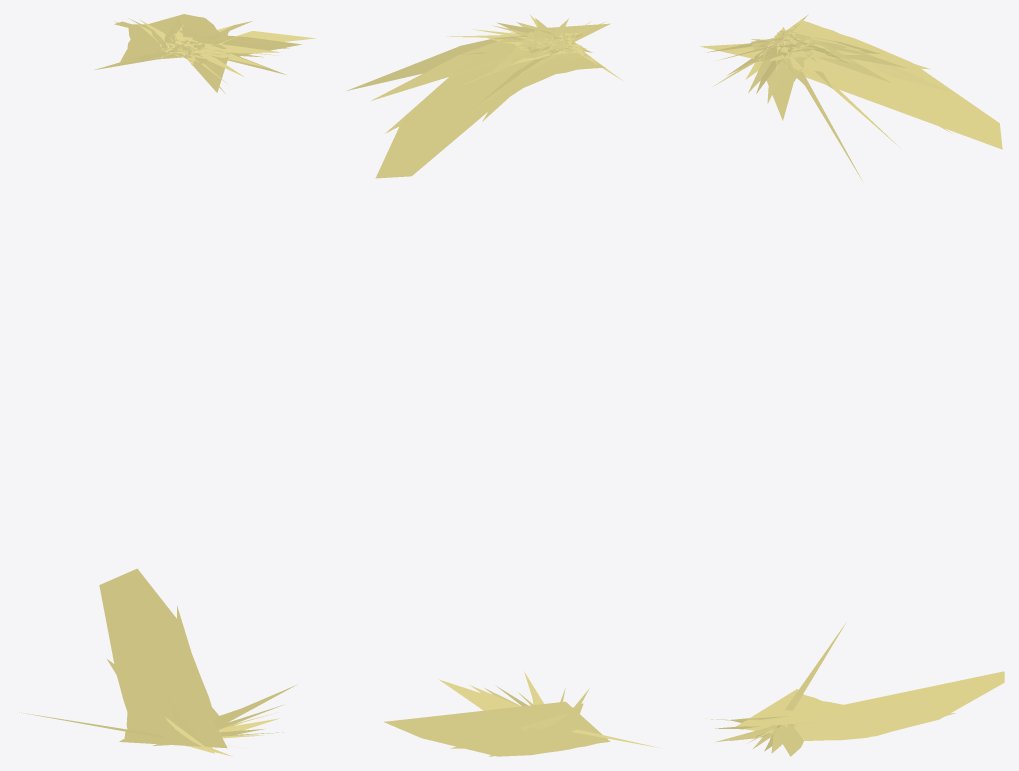
The model's file is grating.glb.
3 renders of one model, left to right at view 1: azimuth 30°, elevation 25°; view 2: azimuth 150°, elevation 25°; view 3: azimuth 270°, elevation 25°, orthographic.
Parts seen in each view (by area): view 1: grating; view 2: grating; view 3: grating.
Part boxes in pixels (x1,y1,x2,y2): grating: [19, 14, 315, 756]; grating: [346, 14, 660, 756]; grating: [699, 14, 1004, 756].
Size of the model in its own units: 0.9461 by 2 by 0.8319.
